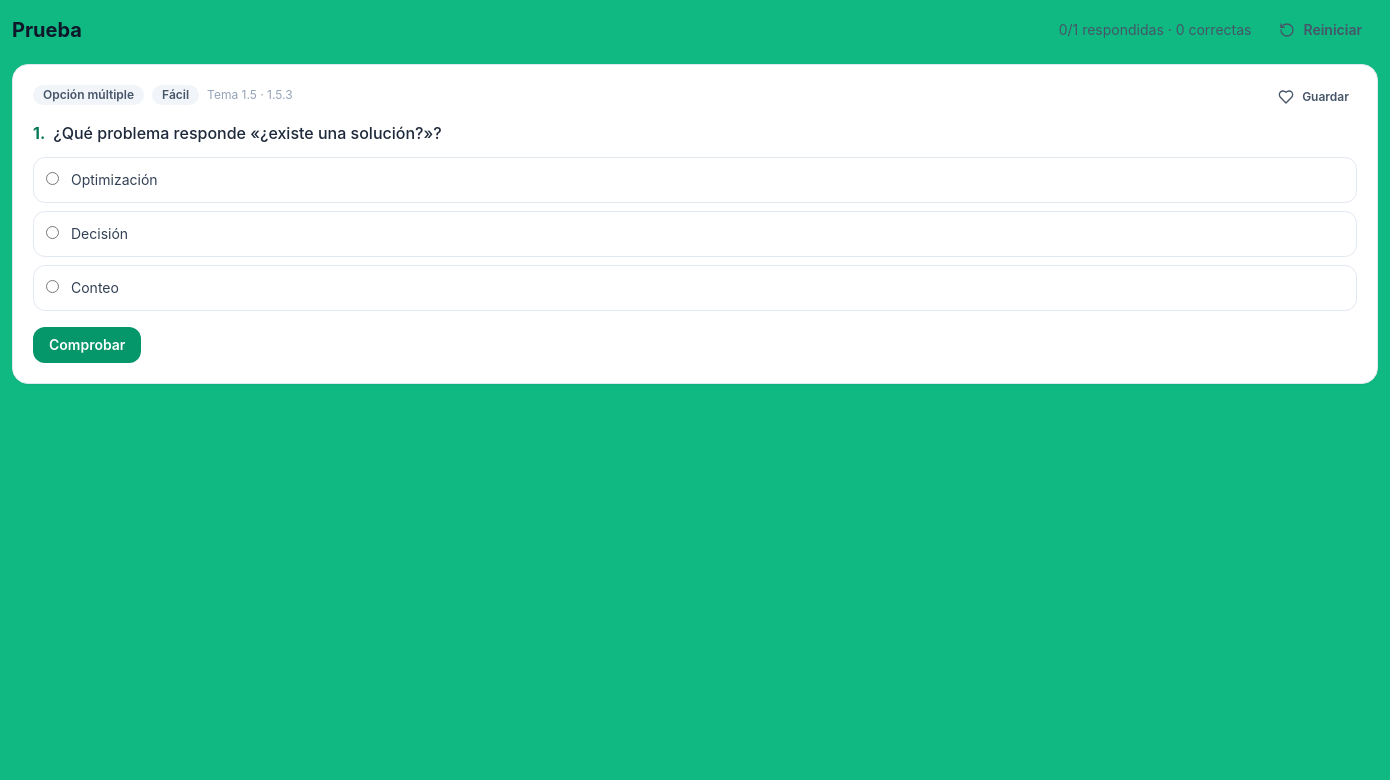
it: QuizSet › muestra el resultado correcto tras responder bien (opción múltiple)
What coordinates should you click on to do the following:
click the radio button labelled "Decisión"
I would click on:
 (52, 232)
Its box is top-left (46, 226), bottom-right (59, 239).
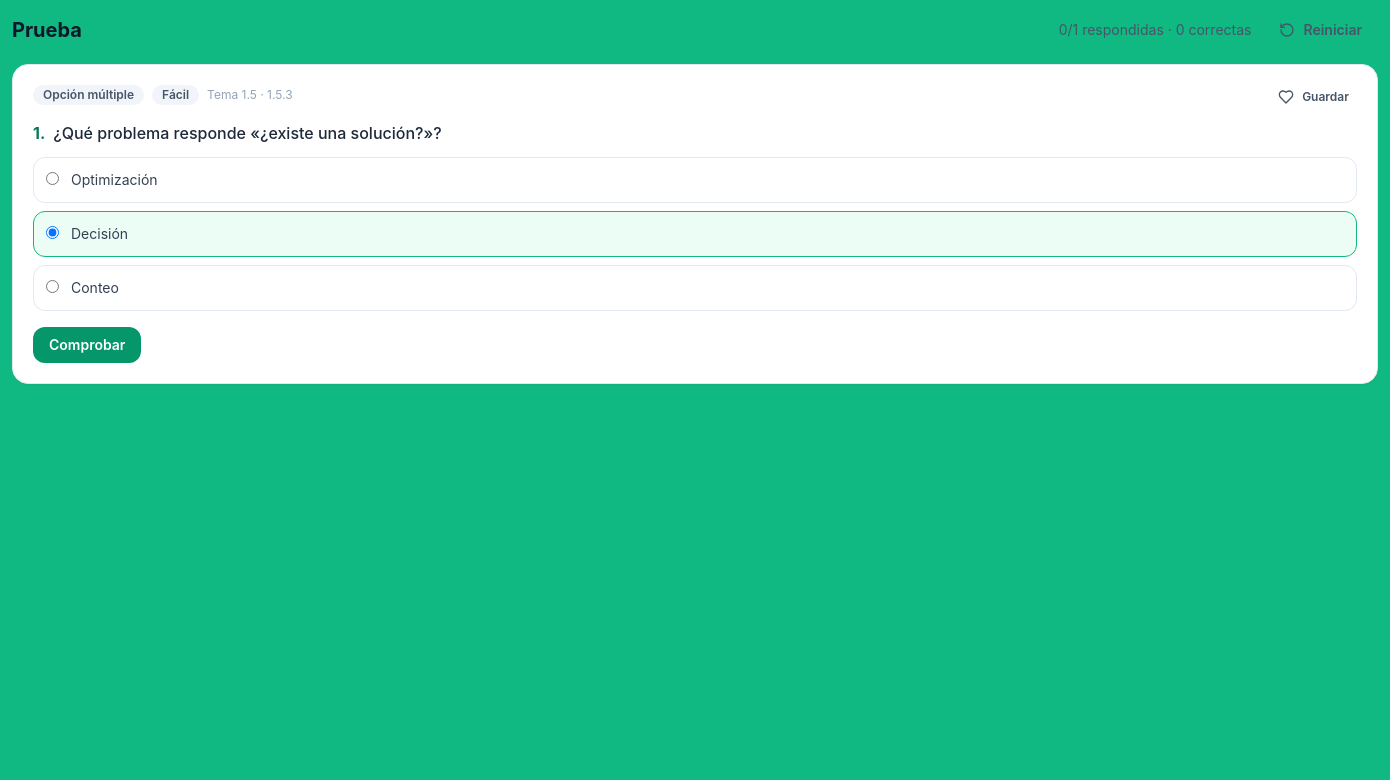
What coordinates should you click on to do the following:
click the button "Comprobar"
I would click on:
 (87, 345)
Its box is top-left (33, 327), bottom-right (141, 363).
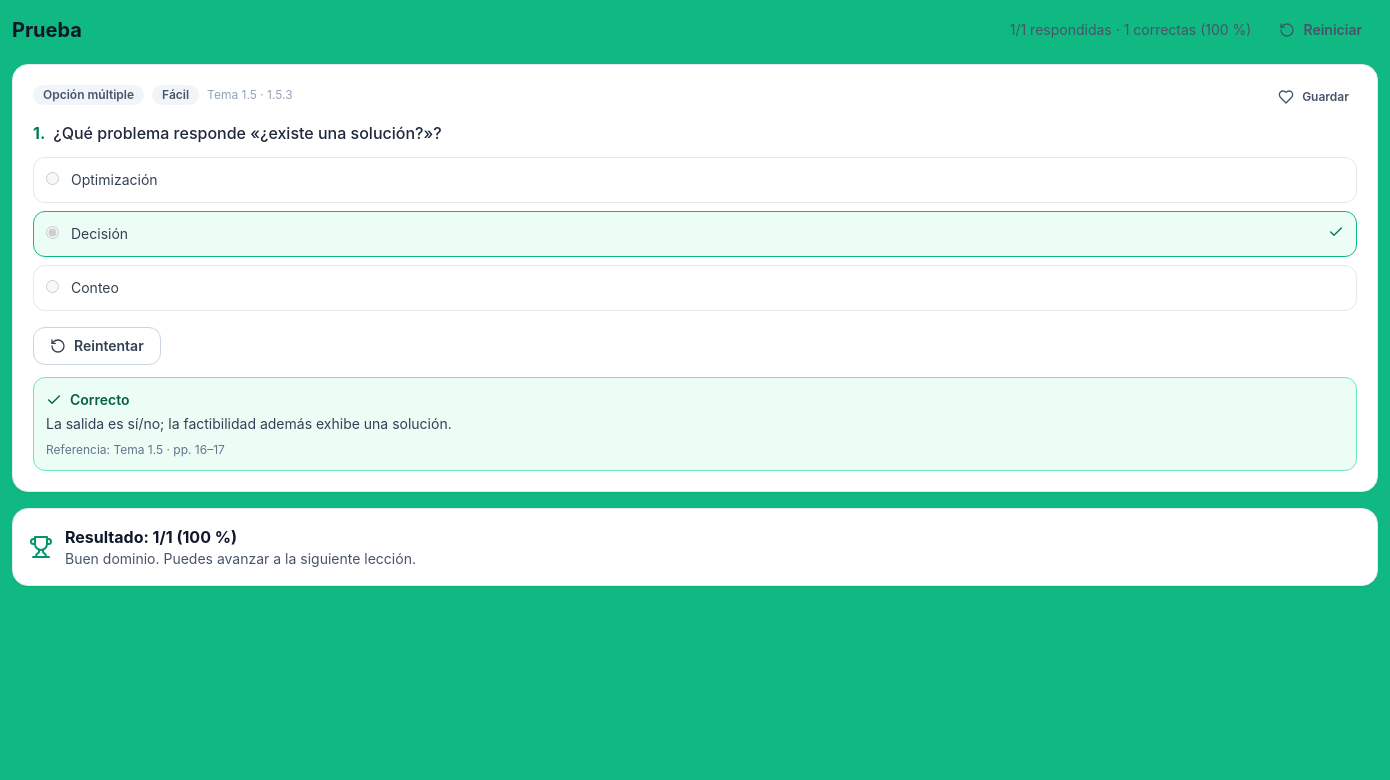
Result: the text "Correcto" is shown at top-left (46, 391), bottom-right (130, 408)
